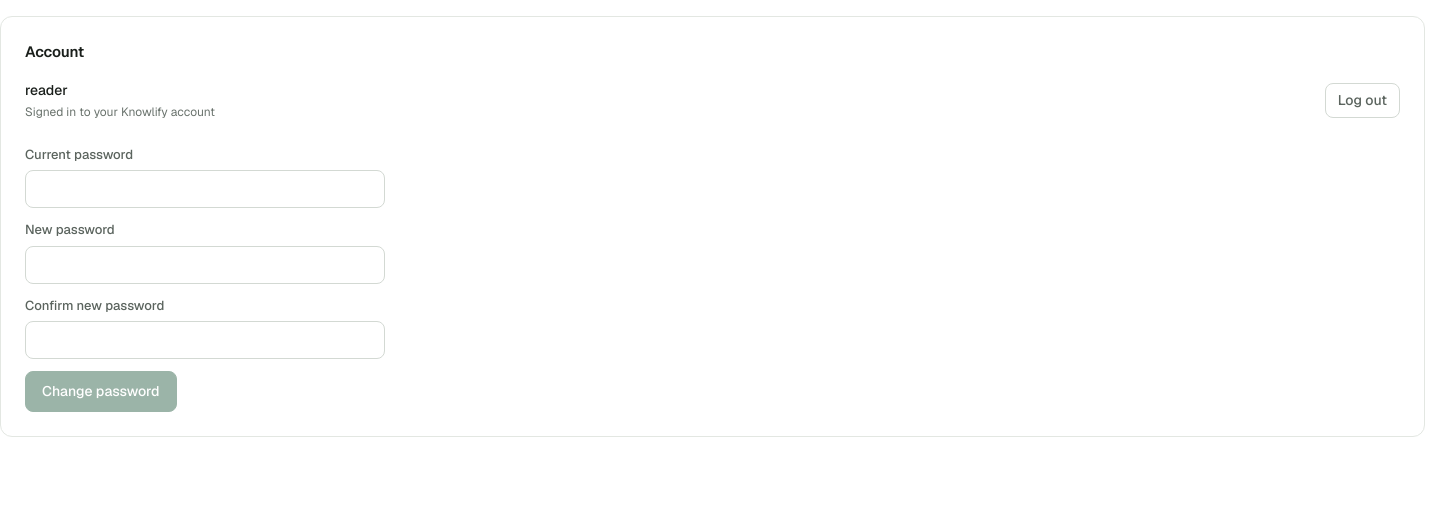
Test: AccountCard › explains a local-only password change without signing out
Type "current-pass" into the password field labelled "Current password".
click(205, 189); type("current-pass")  # box [25,170,385,208]
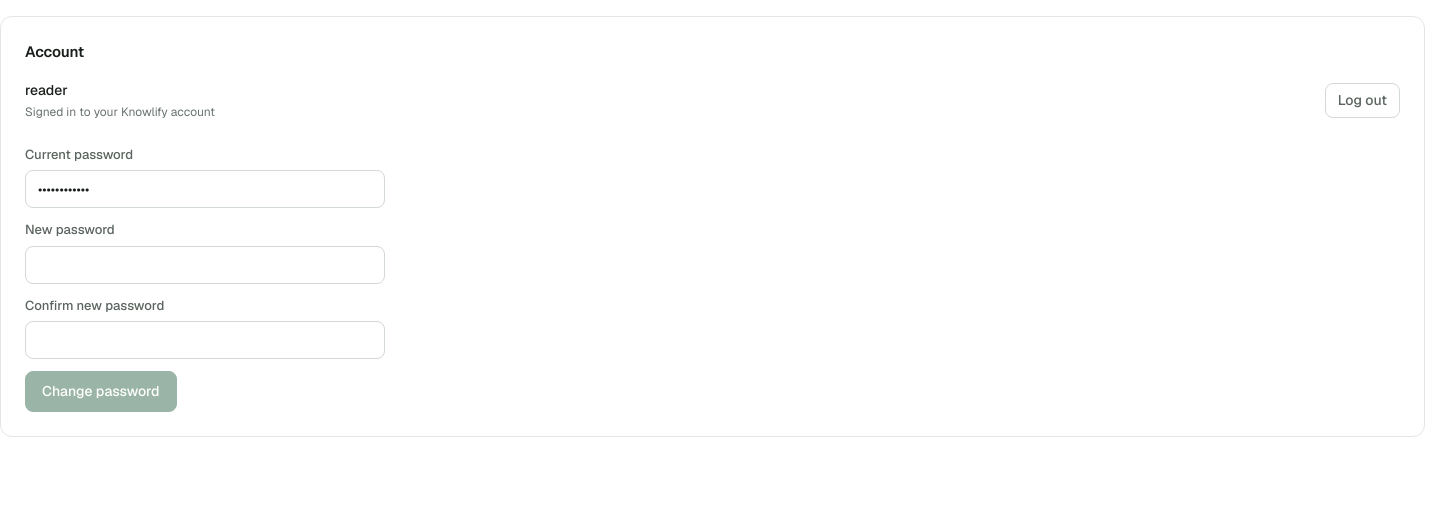
Type "next-password" into the password field labelled "New password".
click(205, 264); type("next-password")  # box [25,246,385,284]
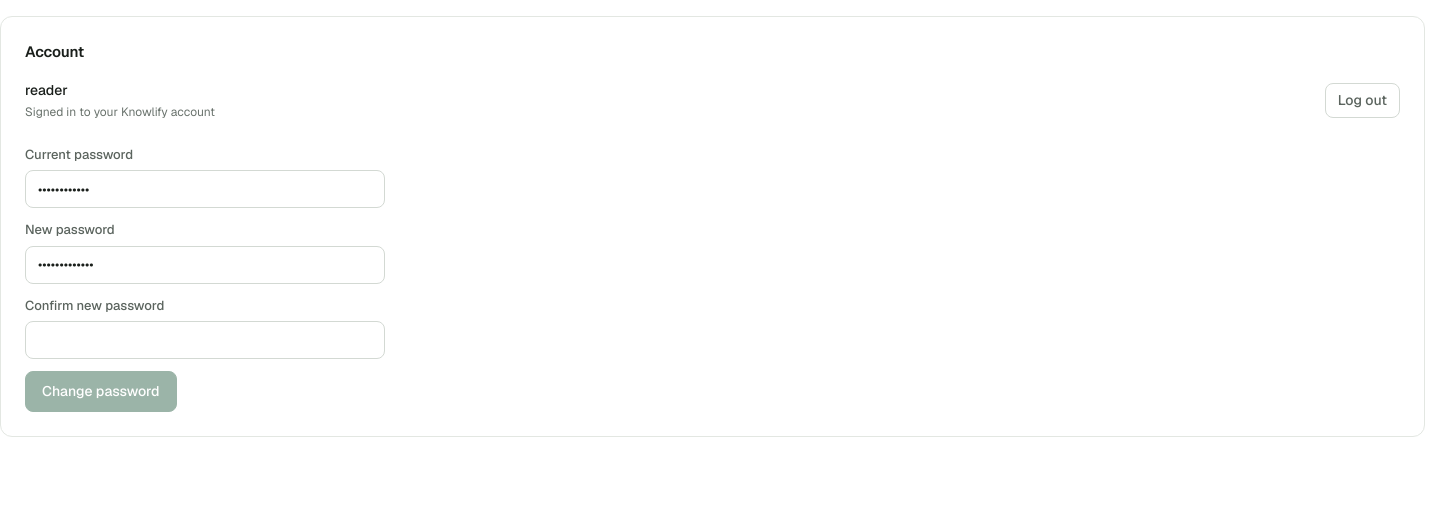
Type "next-password" into the password field labelled "Confirm new password".
click(205, 340); type("next-password")  # box [25,321,385,359]
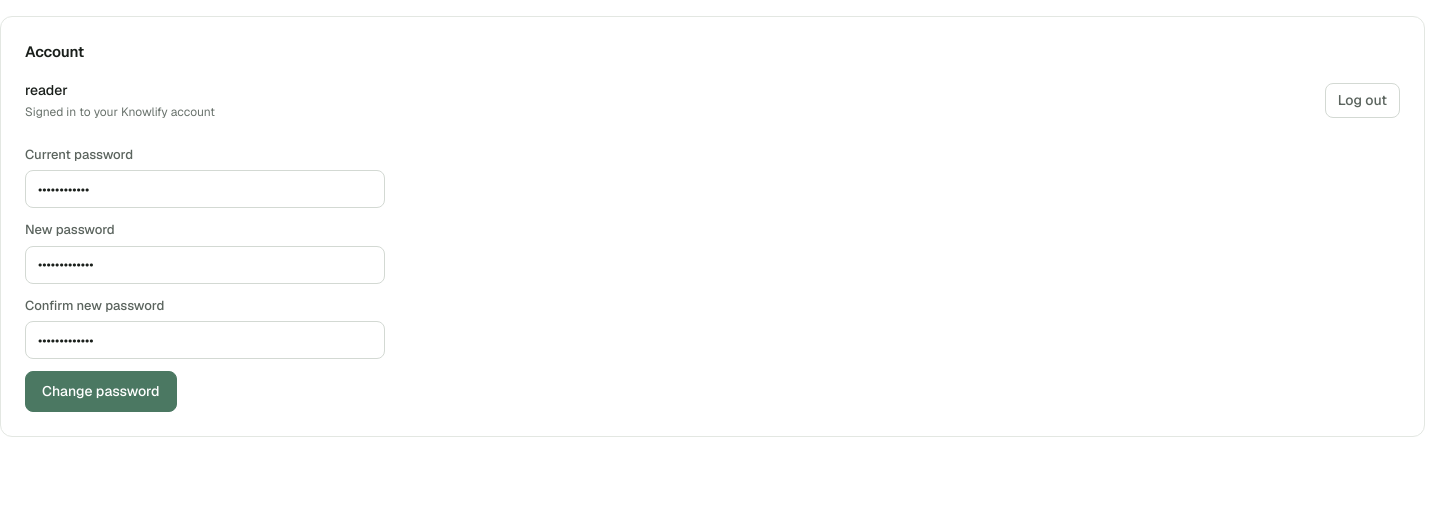
Click the button "Change password".
click(101, 392)  # box [25,371,176,412]
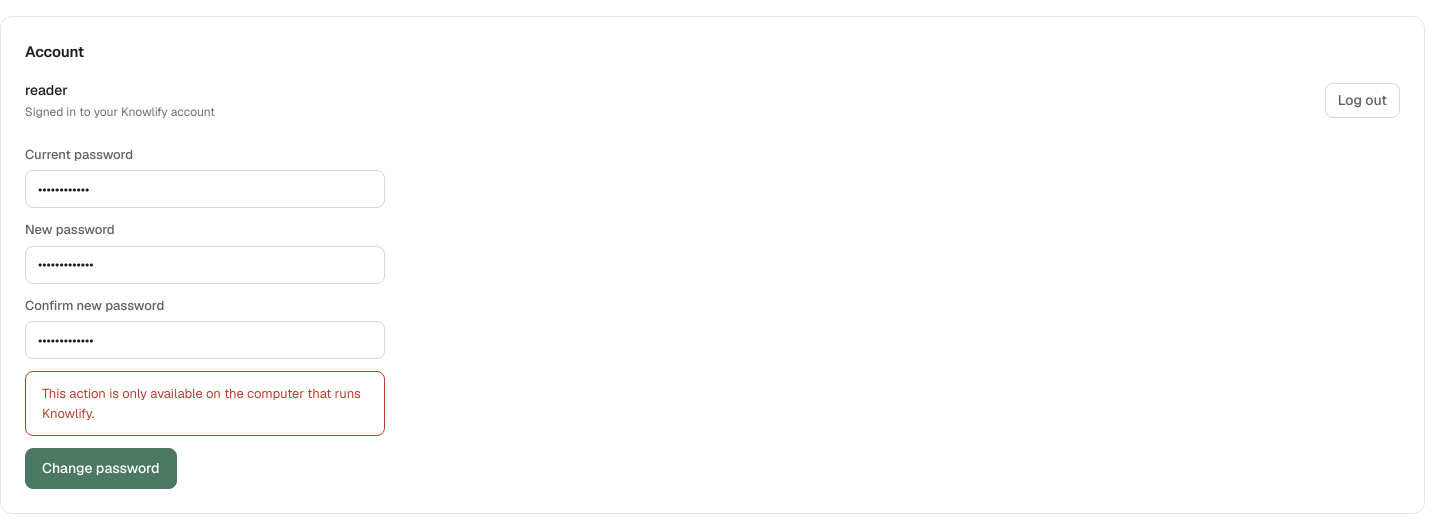
Check: the message reads "This action is only available on the computer that runs Knowlify.", box [42,385,361,422]
